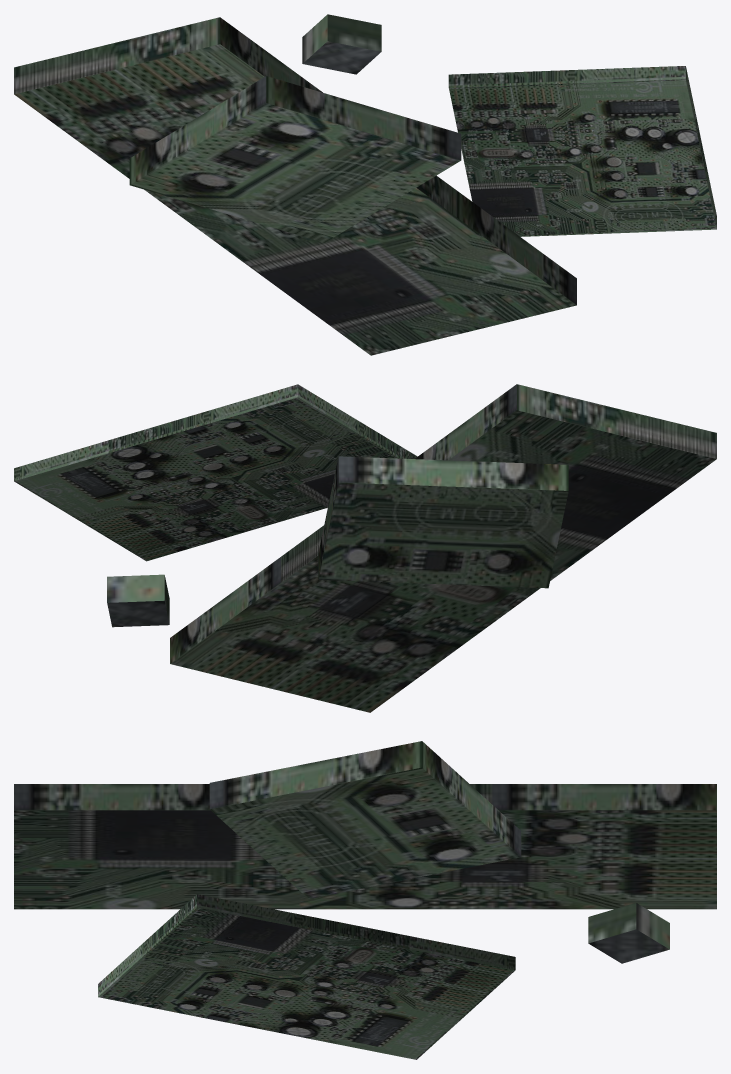
File: electronics.gltf
3 renders of one model, top to bottom at view 1: azimuth 30°, elevation 25°; view 2: azimuth 150°, elevation 25°; view 3: azimuth 270°, elevation 25°, orthographic. The views are drawn at different scales.
Parts seen in each view (by area): view 1: Scene_Root; view 2: Scene_Root; view 3: Scene_Root.
Boxes of the visible parts, box(x1,y1,x2,y2) form: Scene_Root: box(14, 14, 716, 355); Scene_Root: box(14, 384, 716, 712); Scene_Root: box(14, 741, 716, 1059).
Size of the model in its own units: 0.8591 by 0.08 by 0.96.
1 material, 1 textured.
